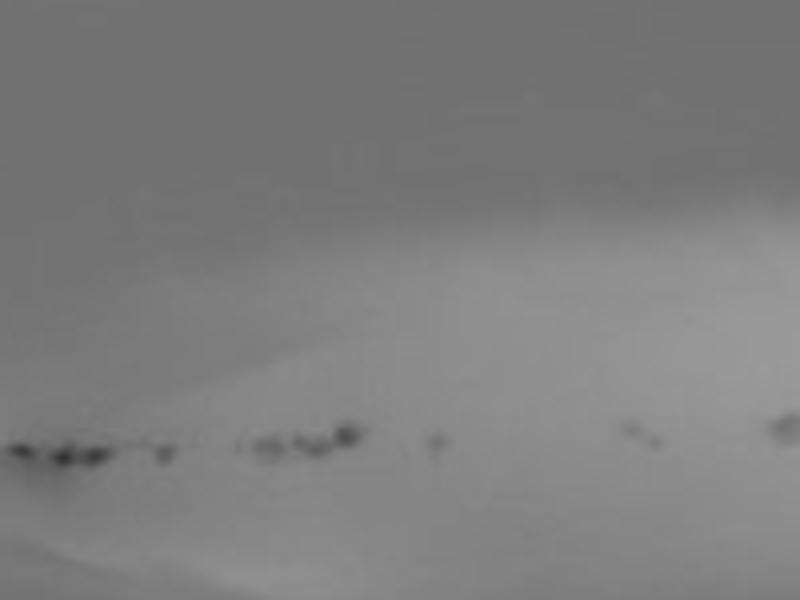defect: (289, 433, 330, 462), (768, 411, 797, 451), (252, 434, 282, 468), (329, 418, 360, 448), (85, 442, 112, 469), (154, 441, 178, 466), (50, 442, 74, 466), (9, 440, 33, 463), (641, 429, 658, 454), (620, 417, 641, 436), (429, 427, 444, 452)
